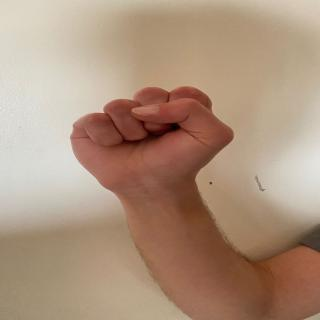SAD: (44, 74, 250, 187)
